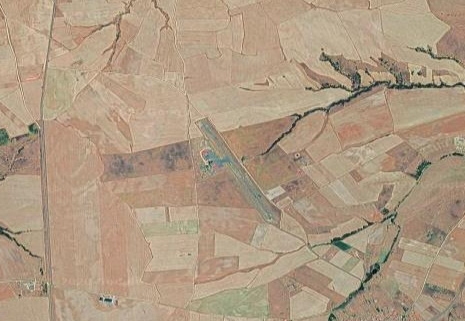airport: (196, 120, 276, 224)
motorway: (43, 1, 57, 68), (44, 258, 54, 321), (41, 194, 51, 257), (36, 131, 46, 194), (38, 68, 48, 131), (449, 284, 465, 306), (431, 304, 451, 321)
